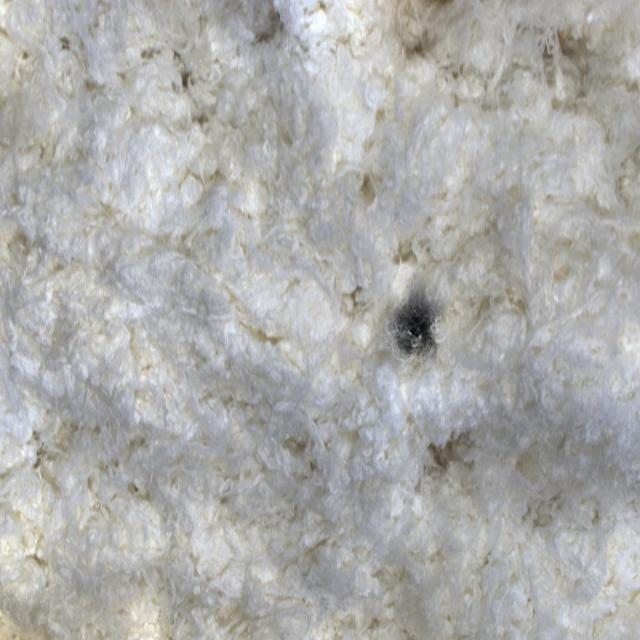dust: (371, 251, 469, 406)
